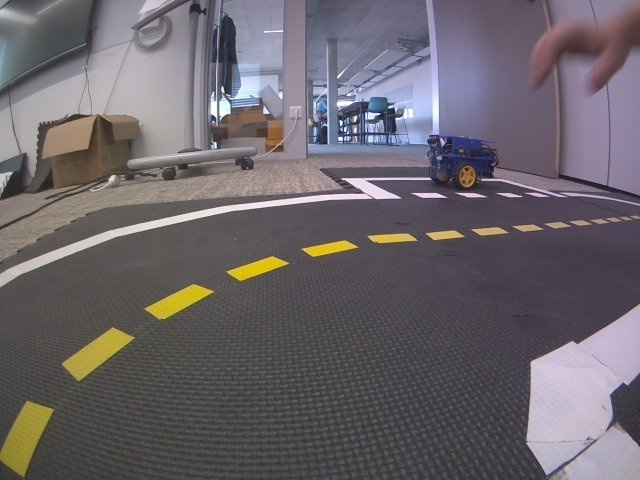Bot: (427, 135, 499, 189)
occupiedSlot: (342, 178, 567, 200)
